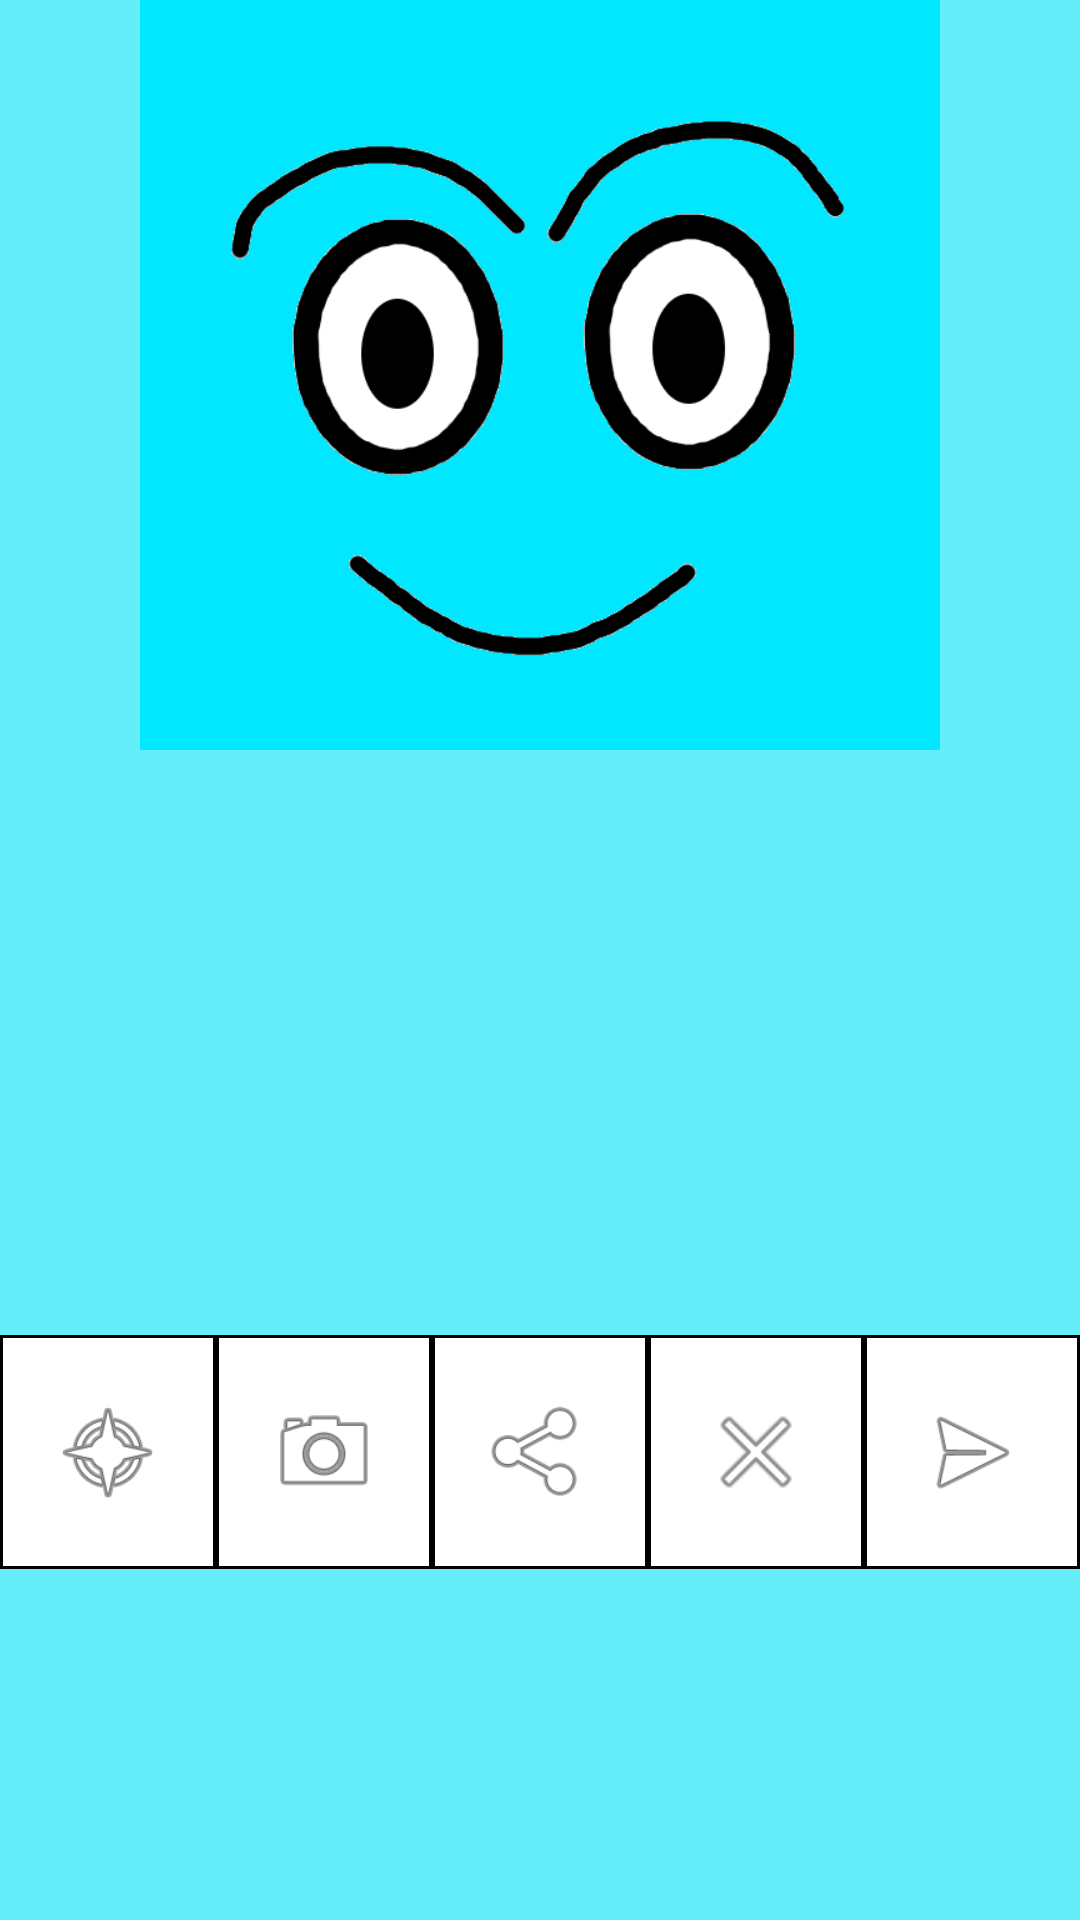

Where icons sit on this 1080x1920 app screen, as bbox(x1, y1, x2, y2):
camera: bbox(219, 1338, 429, 1566)
close clear cancel: bbox(651, 1338, 861, 1566)
compass: bbox(3, 1338, 213, 1566)
send: bbox(867, 1338, 1077, 1566)
share: bbox(435, 1338, 645, 1566)
